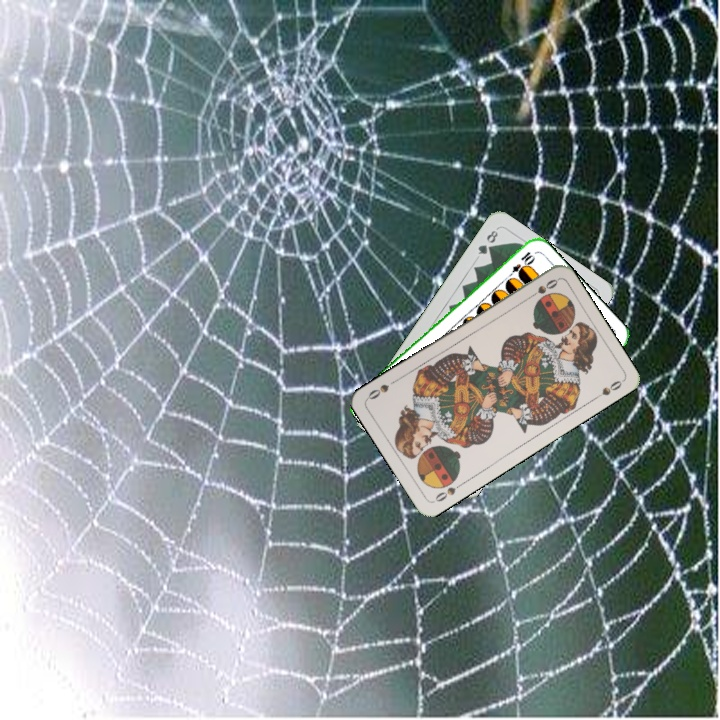E10: (503, 247, 537, 282)
G8: (474, 226, 501, 257)
SO: (524, 275, 561, 302), (430, 478, 466, 505)
